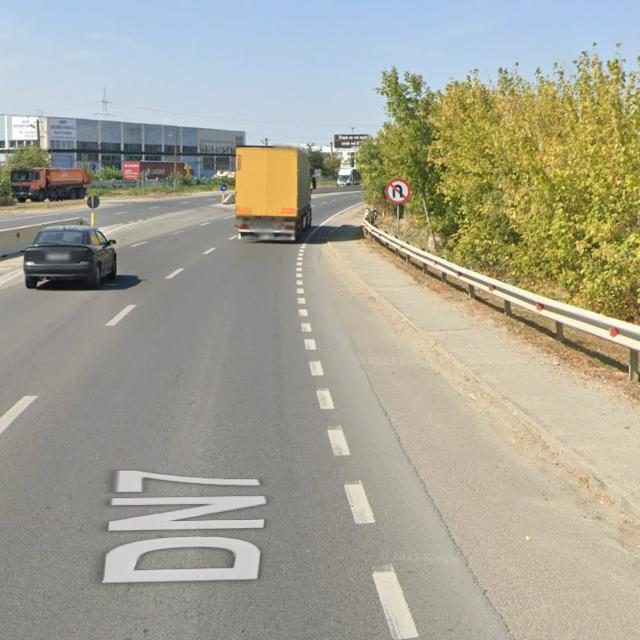forb_u_turn: (385, 178, 411, 204)
